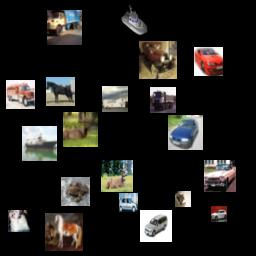automobile: (139, 41, 177, 79), (168, 115, 203, 150), (204, 160, 236, 192), (140, 210, 172, 242), (194, 47, 223, 76), (119, 193, 138, 212), (211, 206, 227, 222)
cat: (175, 191, 191, 207)
deer: (63, 112, 98, 147), (101, 160, 133, 192)
dog: (8, 210, 30, 232)
frog: (61, 177, 90, 206)
ship: (22, 126, 57, 161), (120, 4, 152, 36), (102, 86, 128, 112)
truck: (47, 10, 82, 45), (6, 80, 35, 109), (150, 87, 176, 113)
